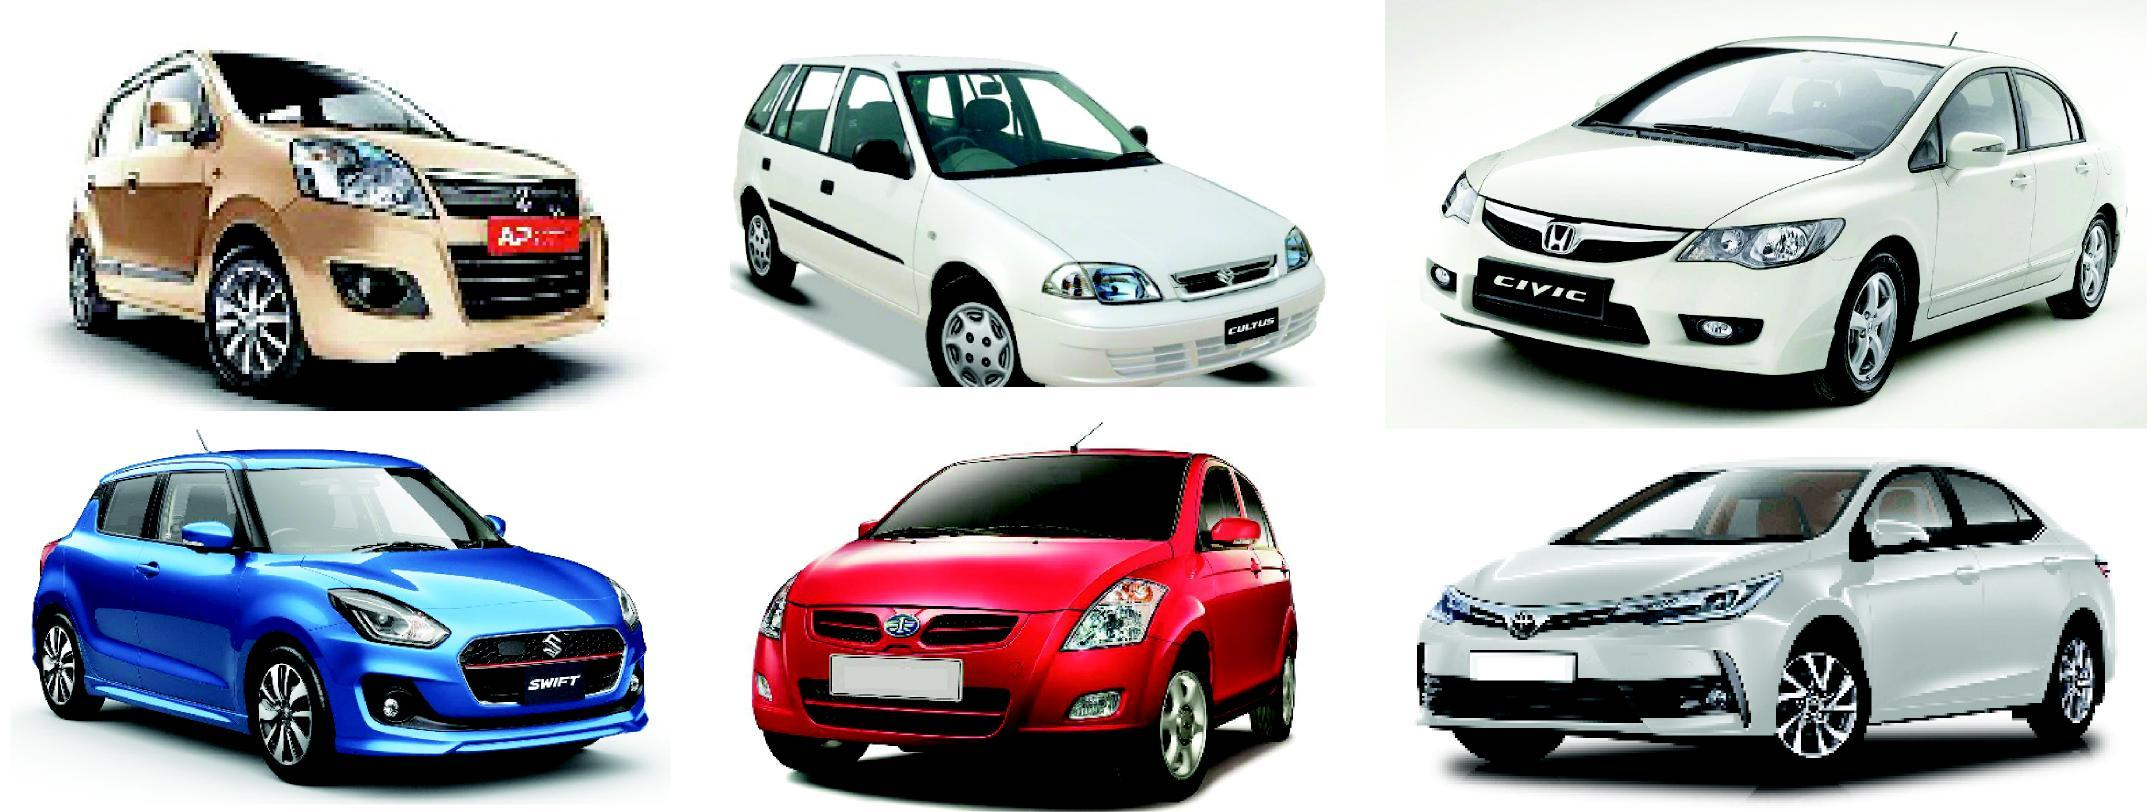windshield: (1571, 36, 1965, 179), (865, 442, 1209, 555), (891, 67, 1160, 210), (1550, 463, 1879, 557), (231, 455, 513, 563), (193, 45, 466, 133)
